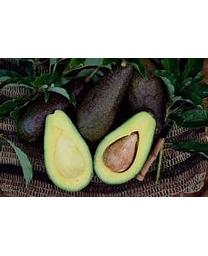avocado: (95, 112, 156, 185), (43, 110, 94, 193)
